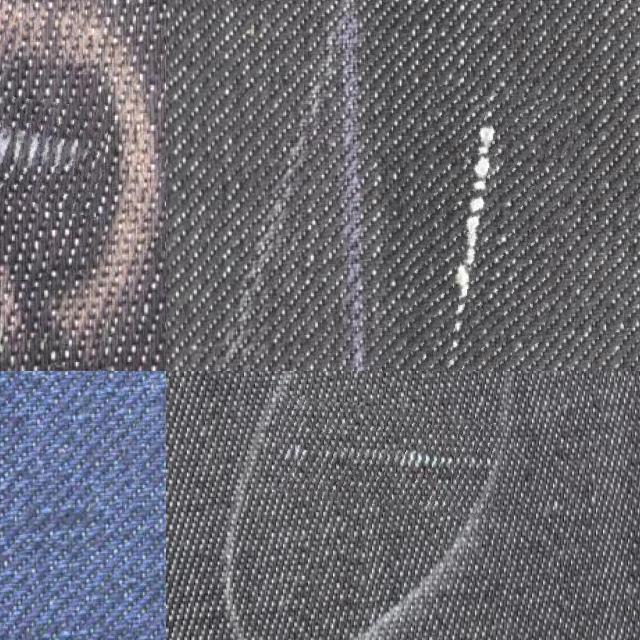stains: (388, 88, 563, 371), (274, 403, 502, 513), (0, 85, 107, 209)
